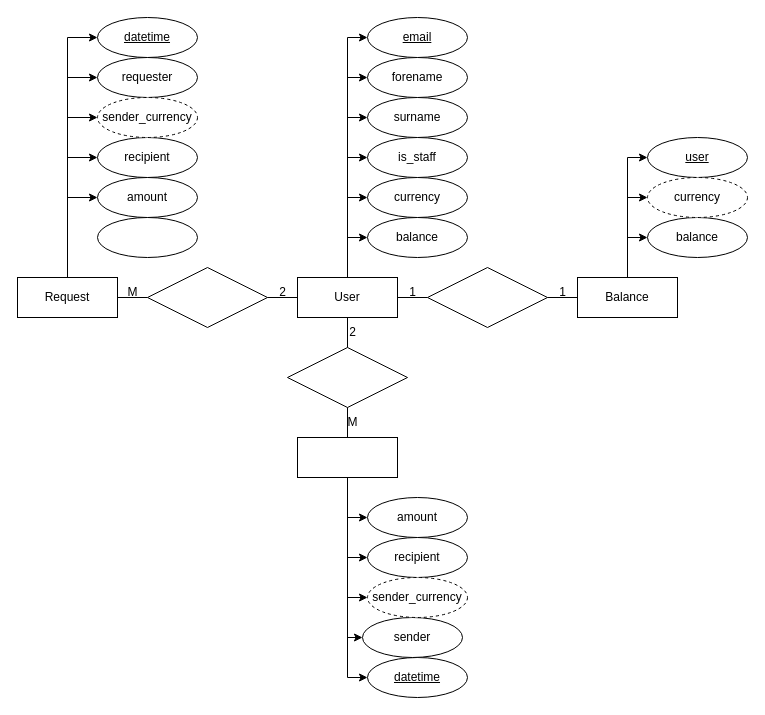
The diagram is 765 pixels wide and 715 high, and some of its shapes have lost their labels. Here are the shapes that lost their labels. From the top down, the centre of each, then its label:
At [147,237]: "status".
At [207,297]: "Requests".
At [487,297]: "Has".
At [347,377]: "Transacts".
At [347,457]: "Transaction".
